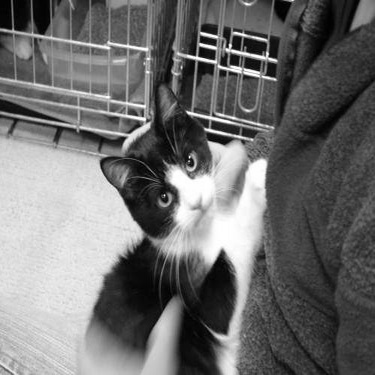cat: (91, 81, 268, 373)
